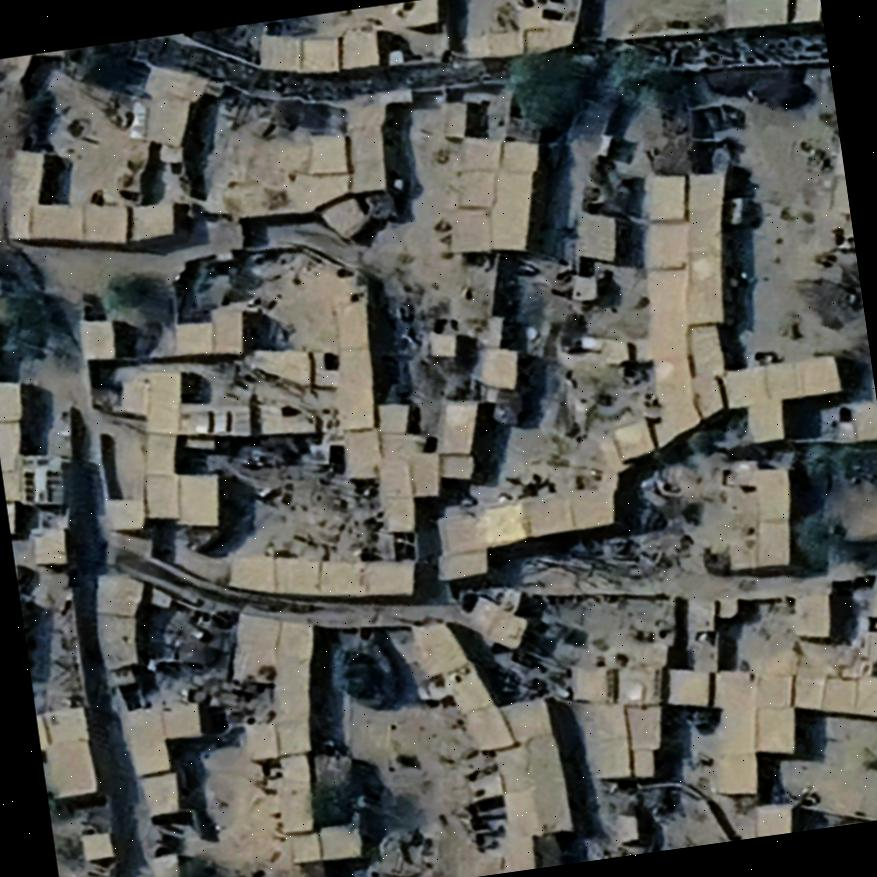Solarpanel: (42, 468, 60, 503), (22, 471, 34, 500)
